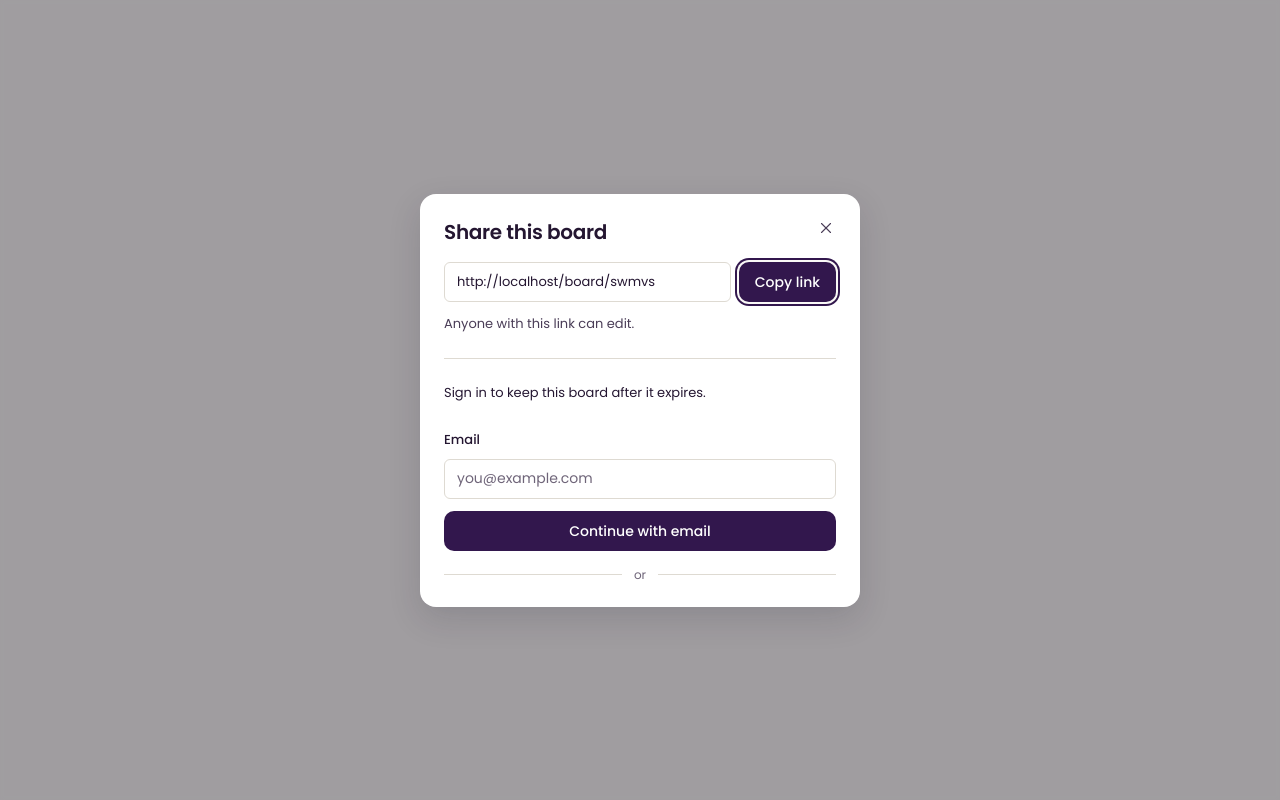
Test: ShareDialog › says what to do when the clipboard refuses
Click the 1st button named "Copy link" at (787, 282), box [739, 262, 836, 302]
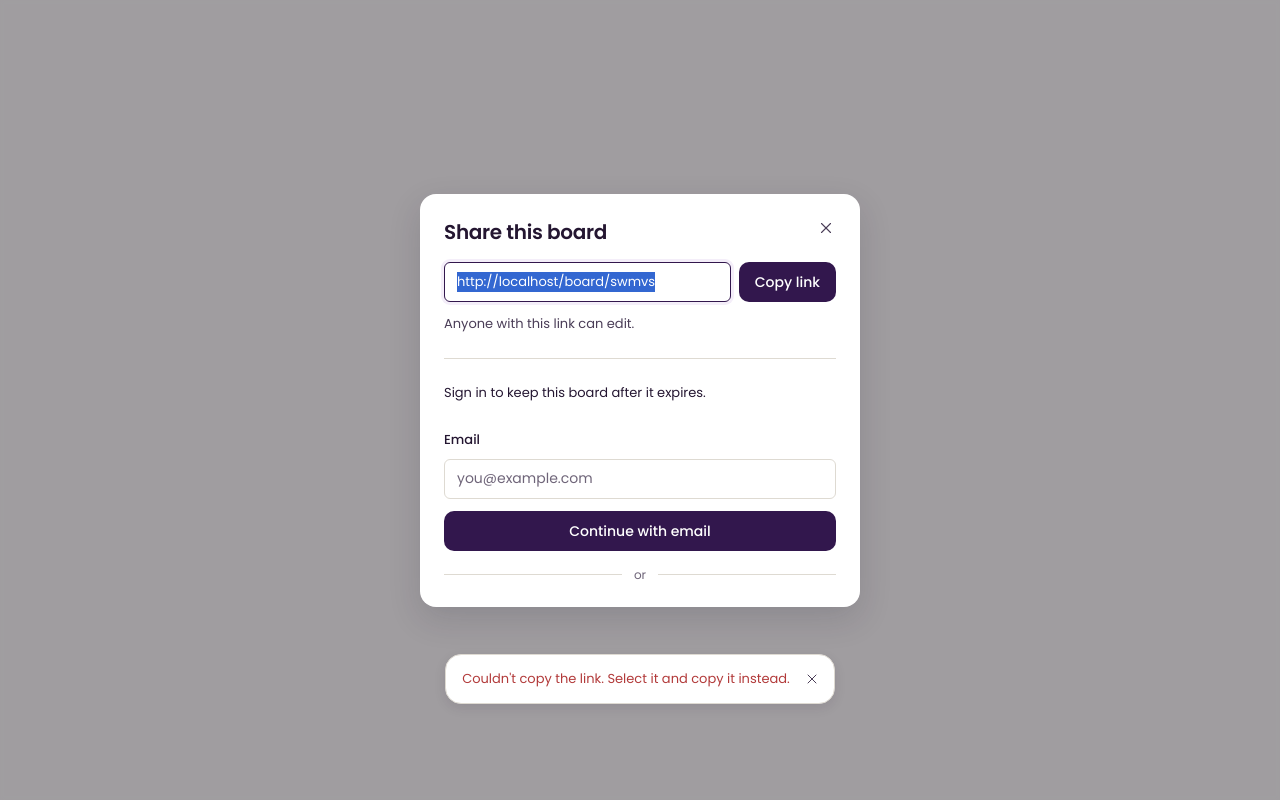
Expected: the message shows "Couldn't copy", [462, 669, 790, 688]
